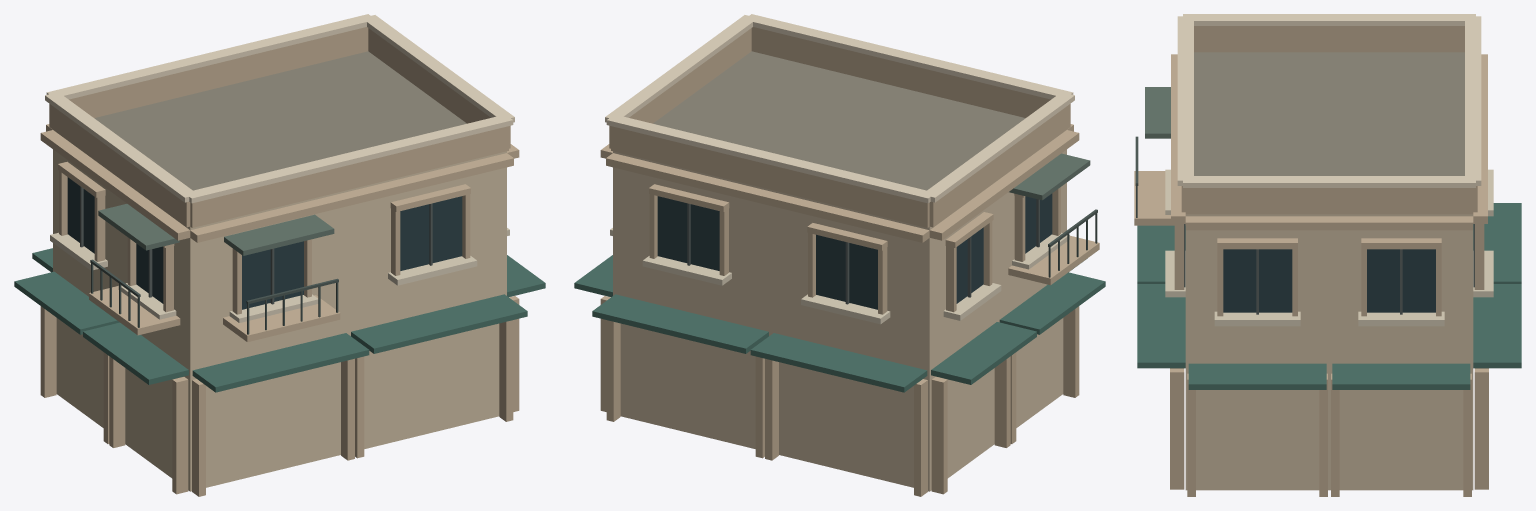
File: kv_shophouse_reference_lod0.glb
The picture shows the model from 3 angles, left to right: view 1: azimuth 30°, elevation 25°; view 2: azimuth 150°, elevation 25°; view 3: azimuth 270°, elevation 25°; orthographic projection. The views are drawn at different scales.
Visible parts, largest first — view 1: kv_shophouse_reference_lod0, kv_facade_trim, kv_facade_shade, kv_facade_glass, kv_facade_metal; view 2: kv_shophouse_reference_lod0, kv_facade_trim, kv_facade_shade, kv_facade_glass, kv_facade_metal; view 3: kv_shophouse_reference_lod0, kv_facade_trim, kv_facade_shade, kv_facade_glass, kv_facade_metal.
Boxes of the visible parts, x1,y1,x2,y2 form: kv_shophouse_reference_lod0: (53, 51, 506, 491); kv_facade_trim: (40, 14, 519, 496); kv_facade_shade: (14, 204, 545, 392); kv_facade_glass: (67, 177, 462, 309); kv_facade_metal: (80, 186, 432, 334); kv_shophouse_reference_lod0: (613, 51, 1066, 491); kv_facade_trim: (600, 14, 1099, 496); kv_facade_shade: (574, 153, 1105, 392); kv_facade_glass: (657, 193, 1052, 309); kv_facade_metal: (687, 199, 1097, 304); kv_shophouse_reference_lod0: (1185, 52, 1473, 490); kv_facade_trim: (1134, 14, 1493, 496); kv_facade_shade: (1137, 87, 1521, 389); kv_facade_glass: (1184, 224, 1474, 312); kv_facade_metal: (1135, 136, 1402, 314).
Bounding box in the file's own units: 10.09 × 7.16 × 8.09.
